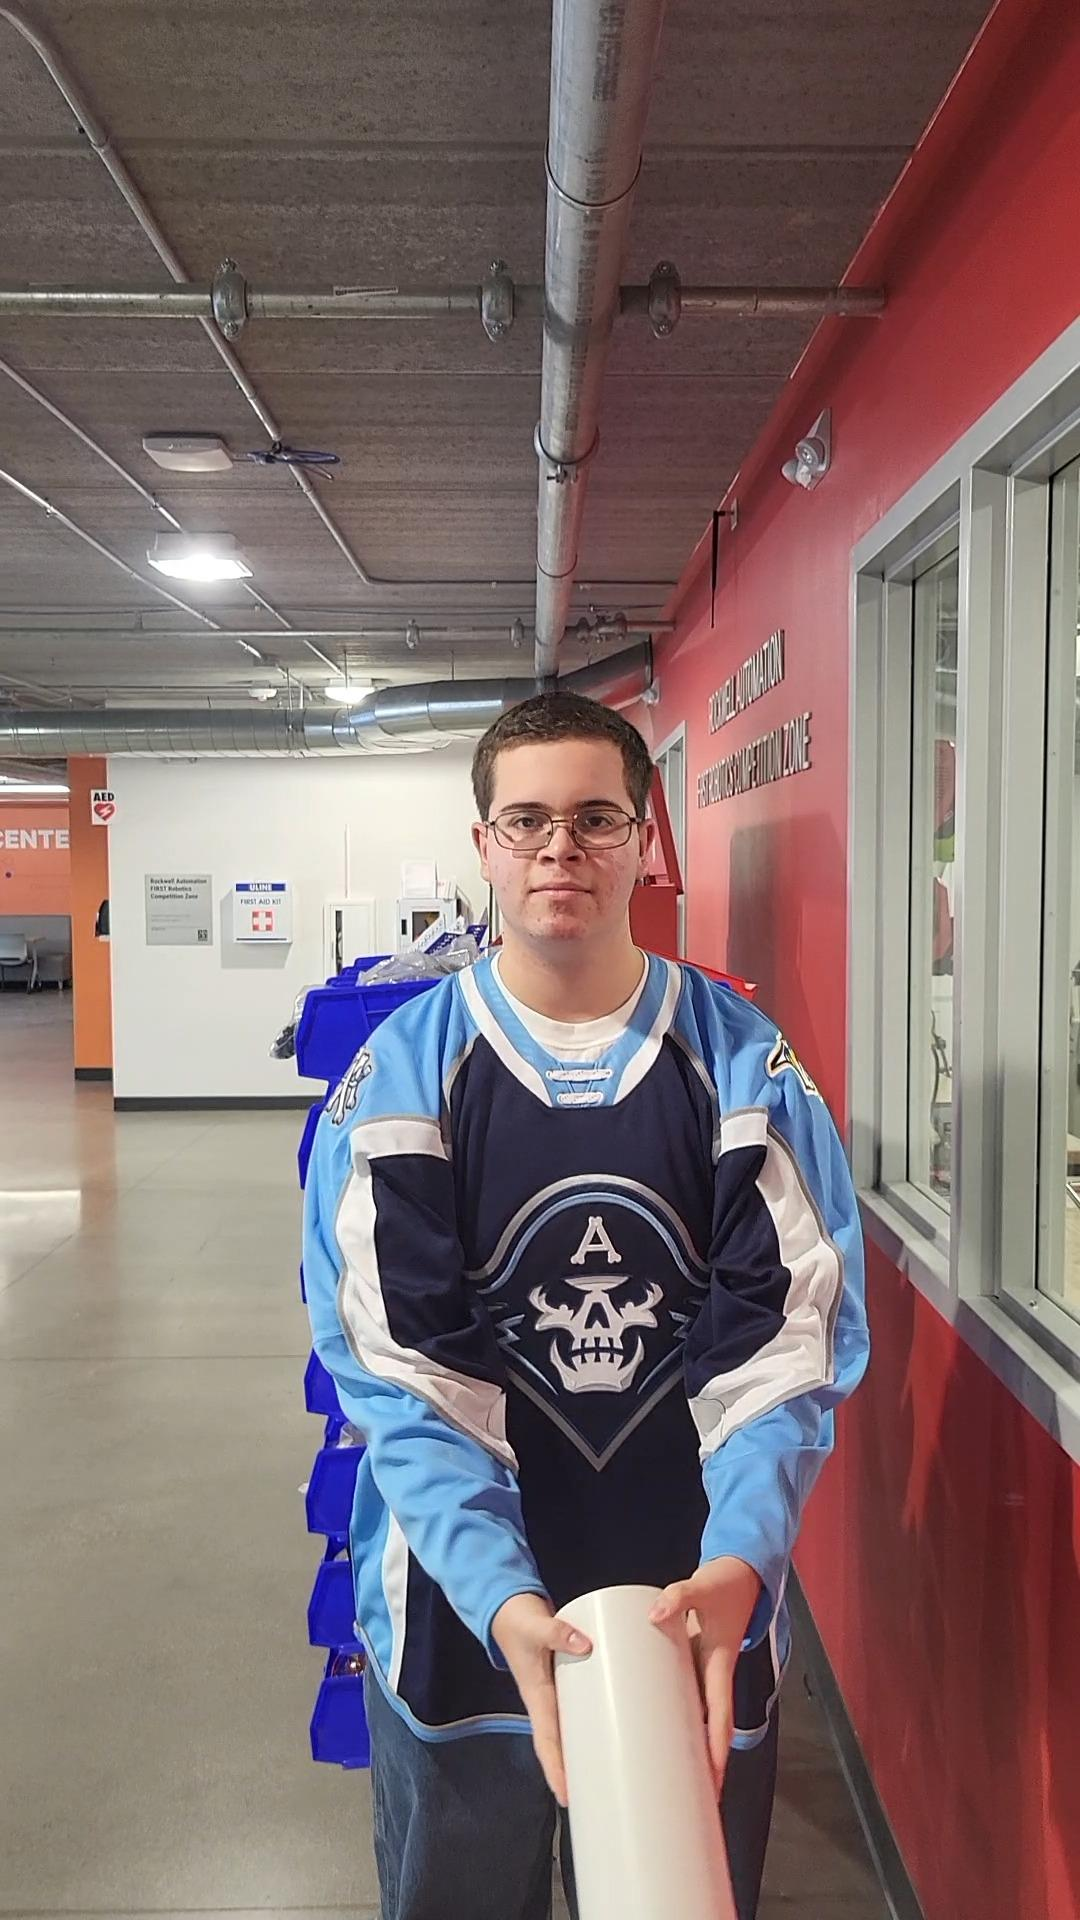coral: (550, 1580, 746, 1920)
